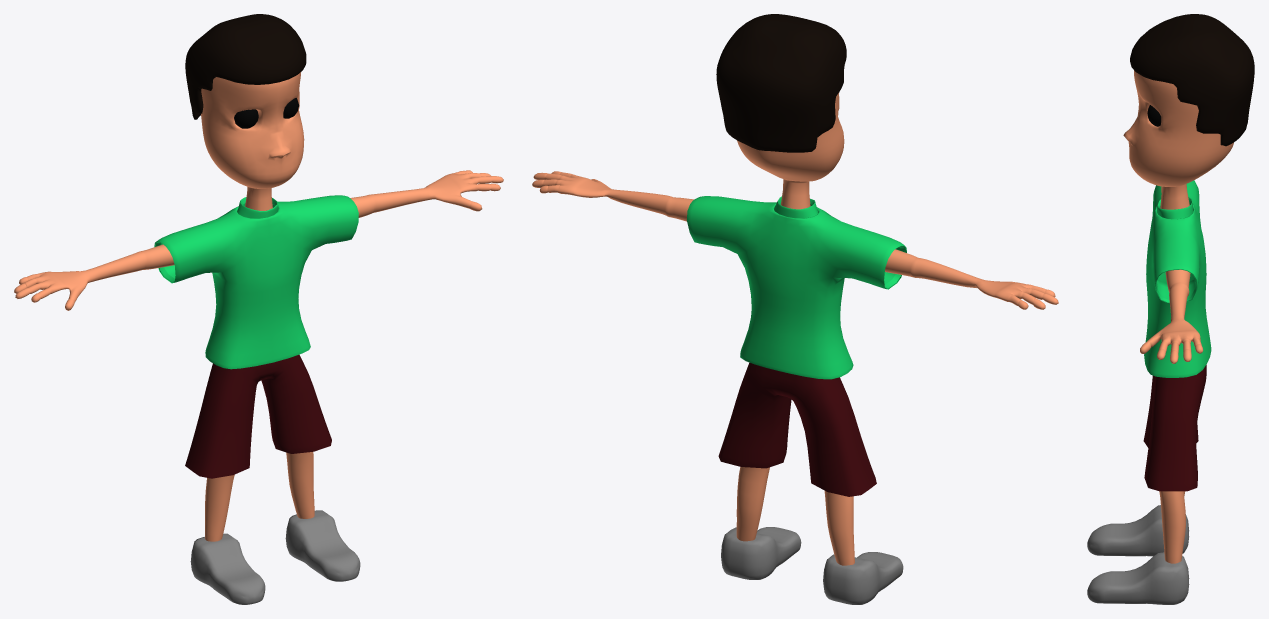
The model's file is player.obj.
The picture shows the model from 3 angles, left to right: view 1: azimuth 30°, elevation 25°; view 2: azimuth 150°, elevation 25°; view 3: azimuth 270°, elevation 25°; orthographic projection. The views are drawn at different scales.
Visible parts, largest first — view 1: pCube6; view 2: pCube6; view 3: pCube6.
Boxes of the visible parts, bbox=[...] form: pCube6: bbox=[14, 14, 503, 604]; pCube6: bbox=[532, 14, 1058, 604]; pCube6: bbox=[1087, 14, 1254, 604].
Size of the model in its own units: 5.34 by 5.57 by 1.54.
